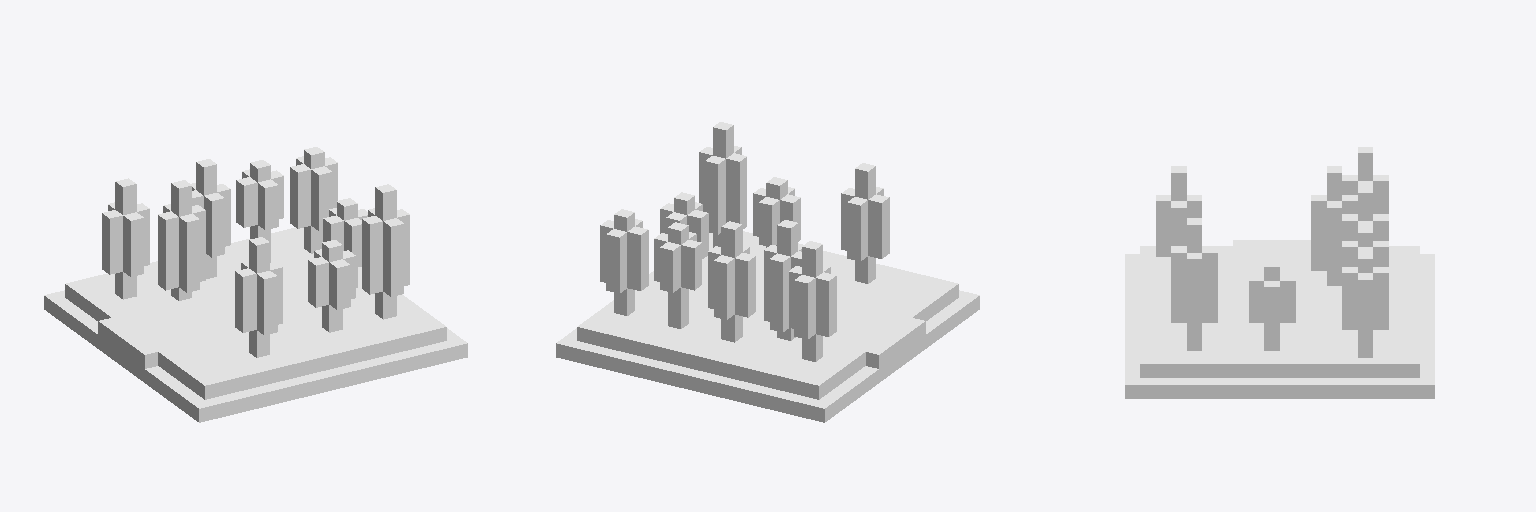
Rendered from onewaytrees.obj.
3 renders of one model, left to right at view 1: azimuth 30°, elevation 25°; view 2: azimuth 150°, elevation 25°; view 3: azimuth 270°, elevation 25°, orthographic.
Size of the model in its own units: 20 by 11 by 20.